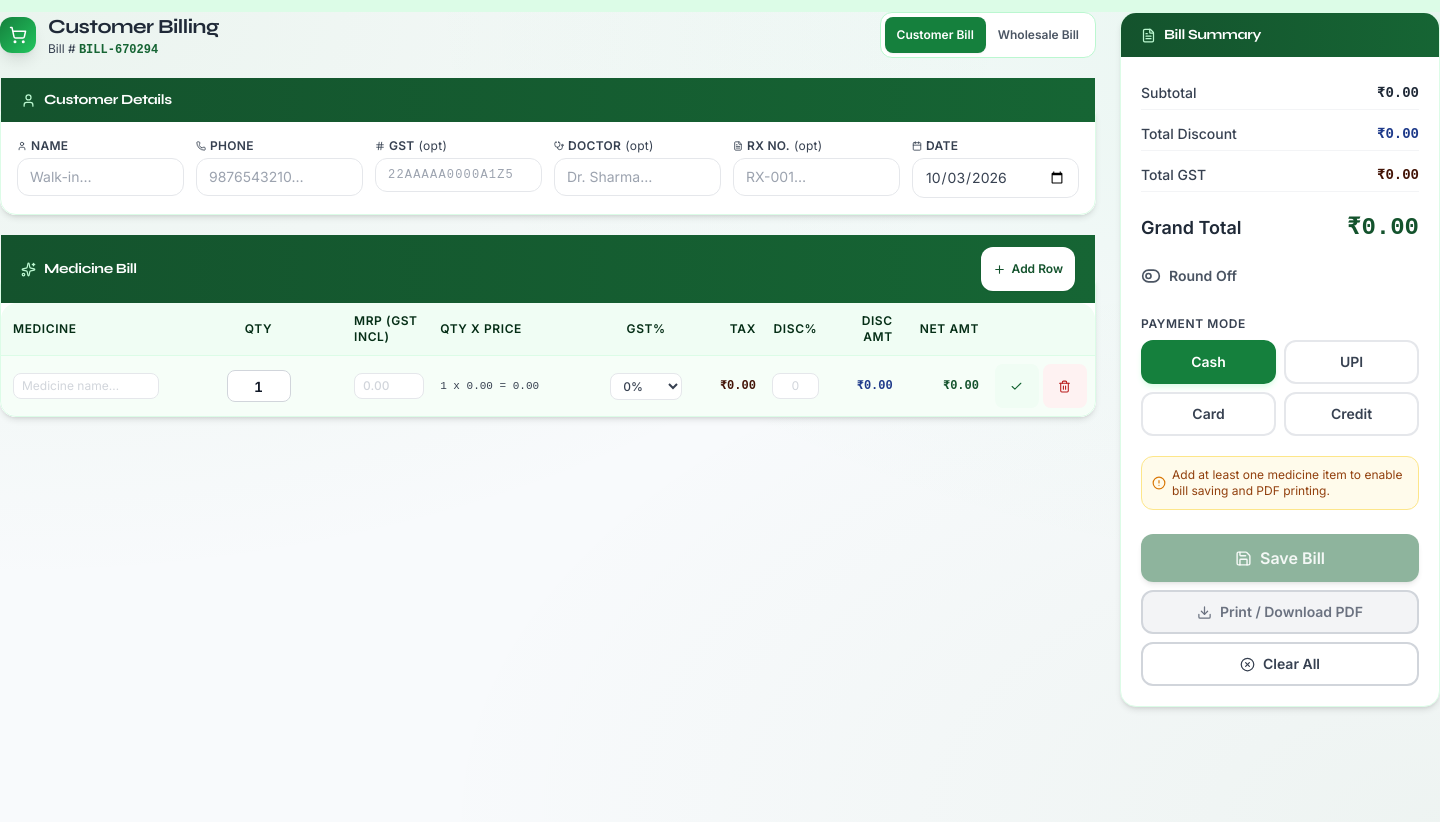
Scenario: Integration: POS Flow (MedicinePicker -> Table -> Checkout API) › maintains non-overlapping two-column layout with independent scroll containers and supports multiple rows and format toggles
Expected: the element named "bill summary and checkout" is shown, [1120,12,1439,707]
Expected: the element with class "overflow-y-auto" is shown, [1121,57,1439,706]
# Test adding multiple rows via "Add Row"
Click the button with aria-label "add medicine row".
click(1028, 269)  # box [981,247,1075,291]
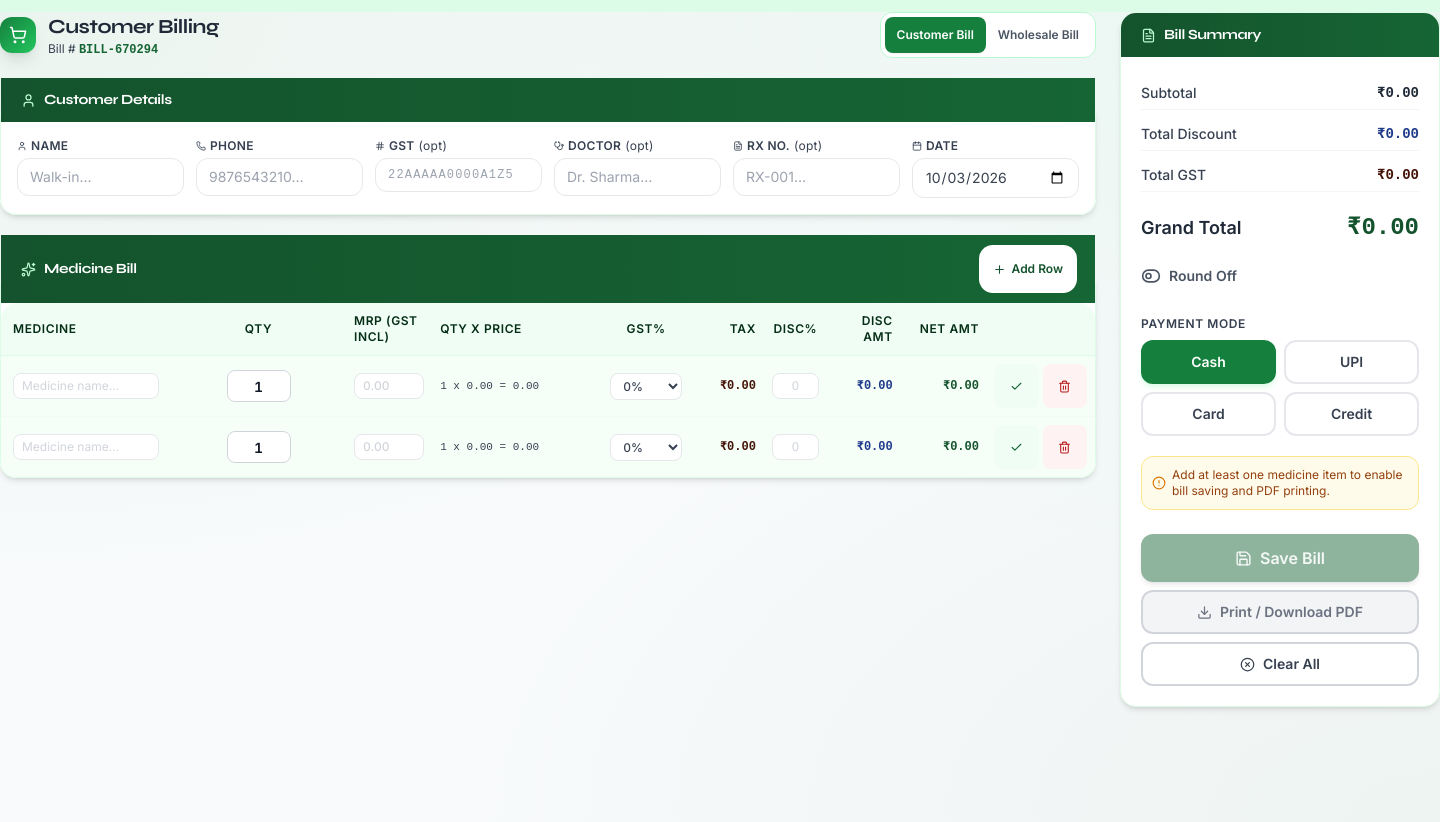
Click the button with aria-label "add medicine row".
click(1028, 269)  # box [981,247,1075,291]
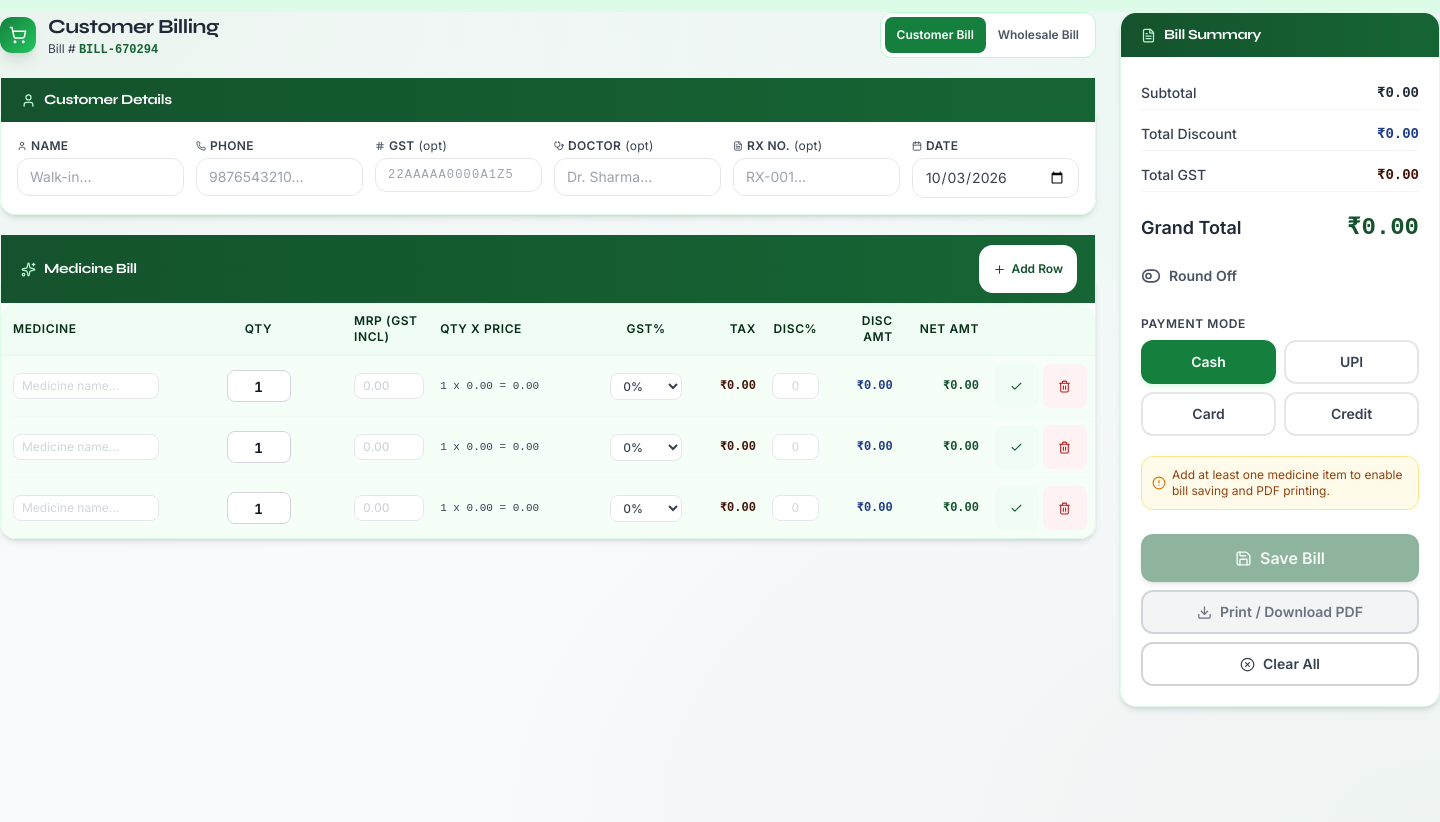
Click the button with aria-label "add medicine row".
click(1028, 269)  # box [981,247,1075,291]
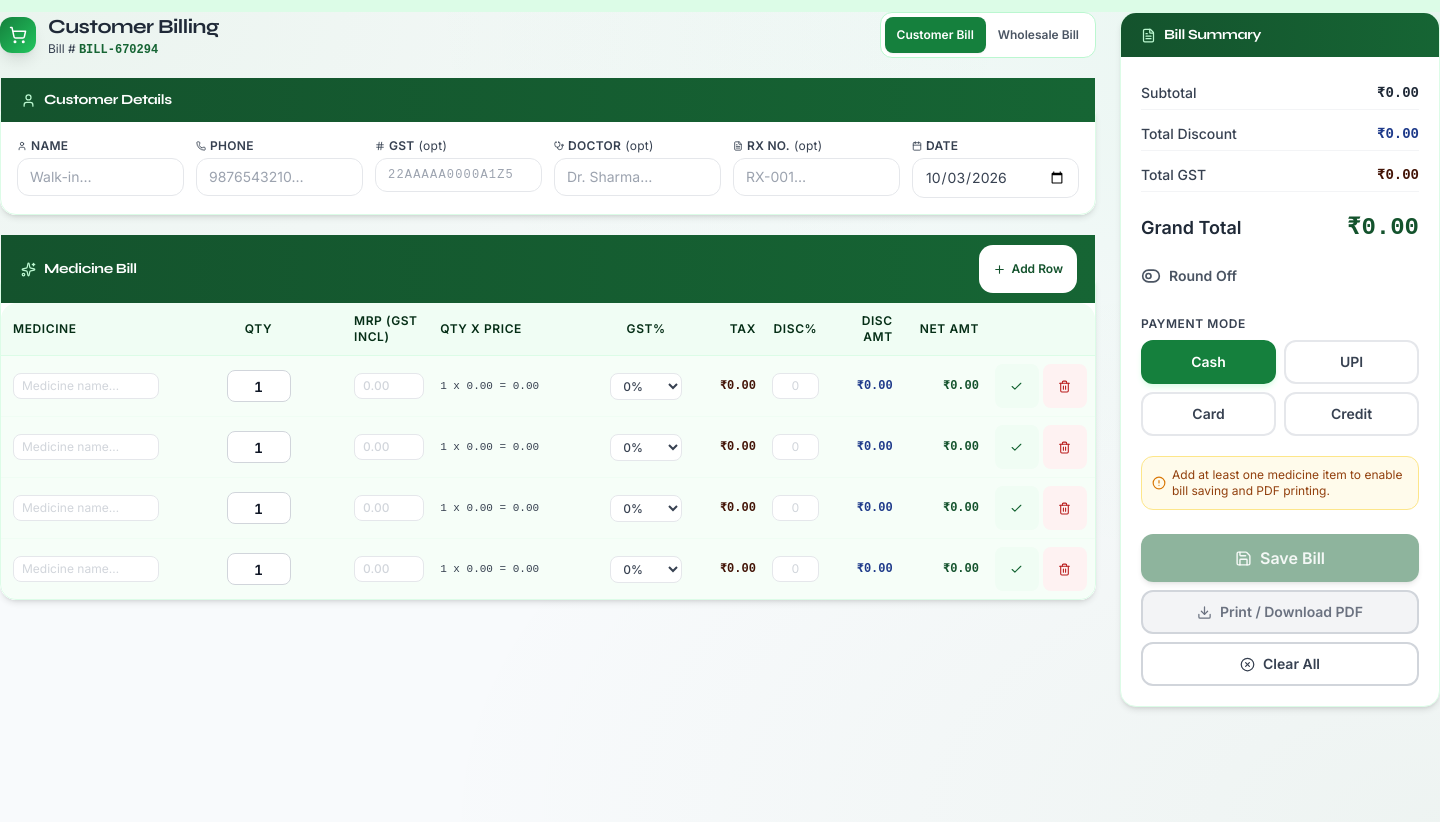
Expected: the element named "bill summary and checkout" is shown, [1120,12,1439,707]
# Test switching between Customer Bill and Wholesale Bill
Click the radio button labelled "Wholesale Bill".
click(1038, 35)  # box [986,17,1091,53]
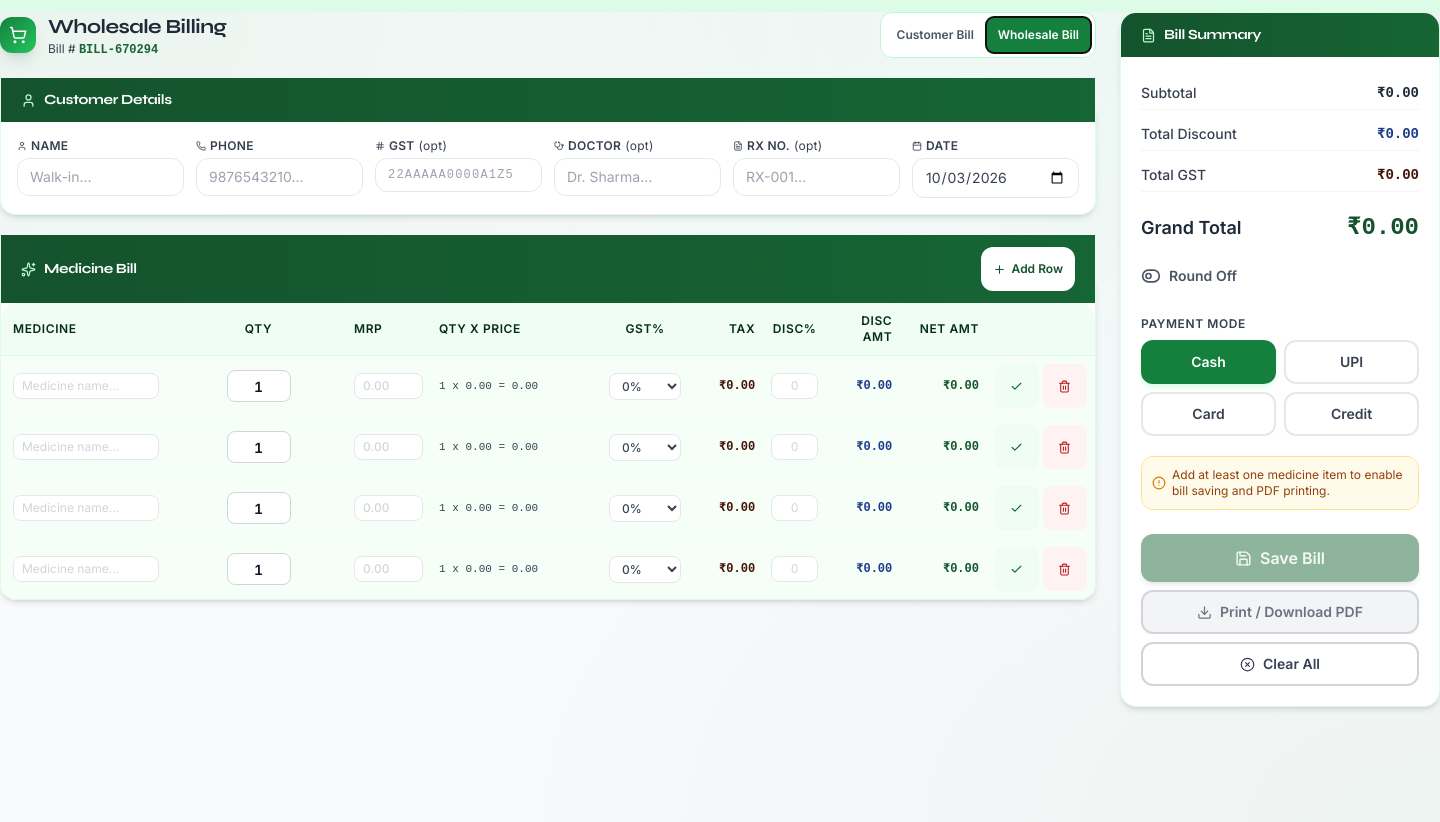
Now the heading "Wholesale Billing" is shown, box [48,12,226,40]
Click the radio button labelled "Customer Bill".
click(935, 35)  # box [884,17,986,53]
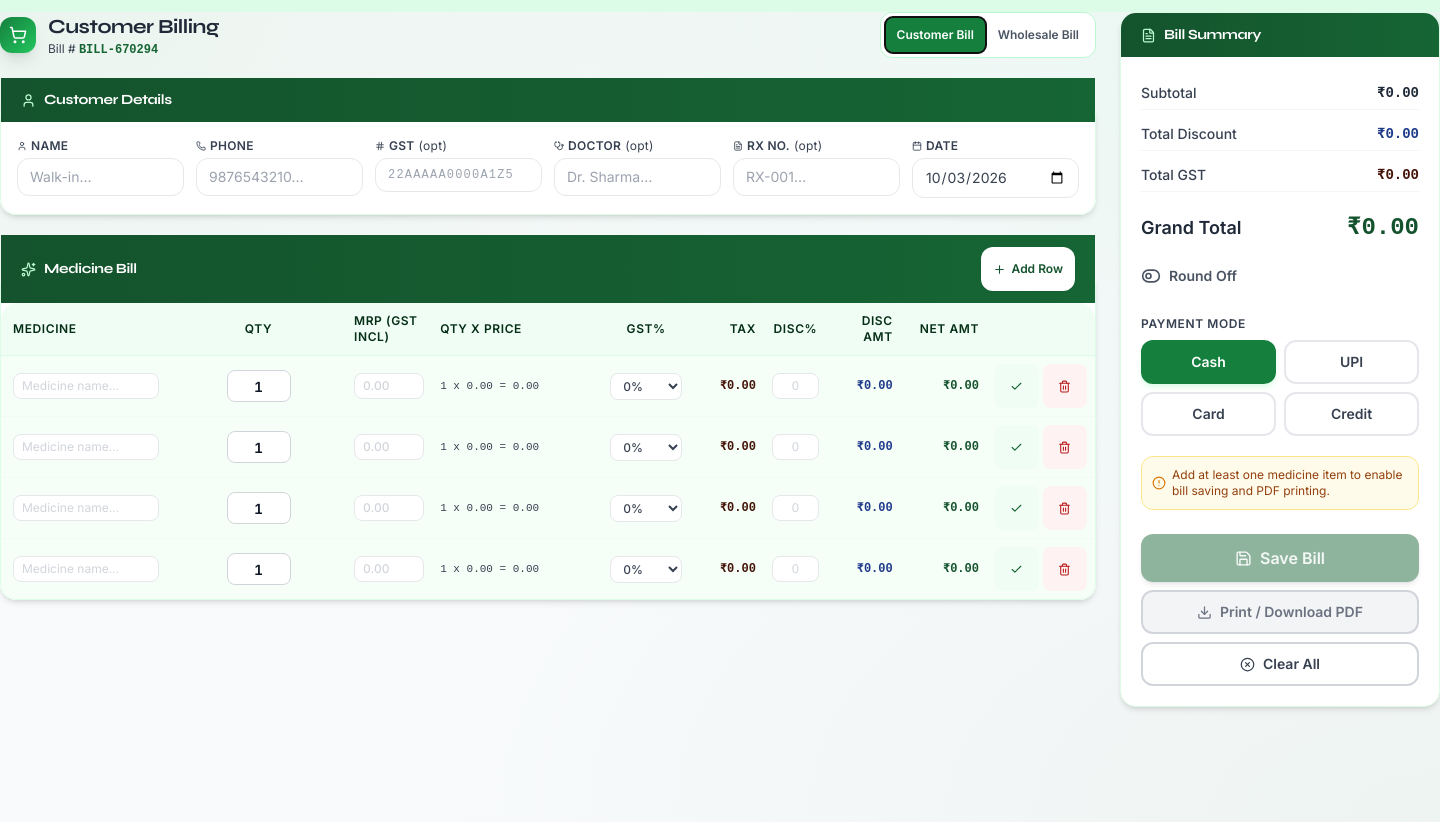
Now the heading "Customer Billing" is shown, box [48,12,219,40]
